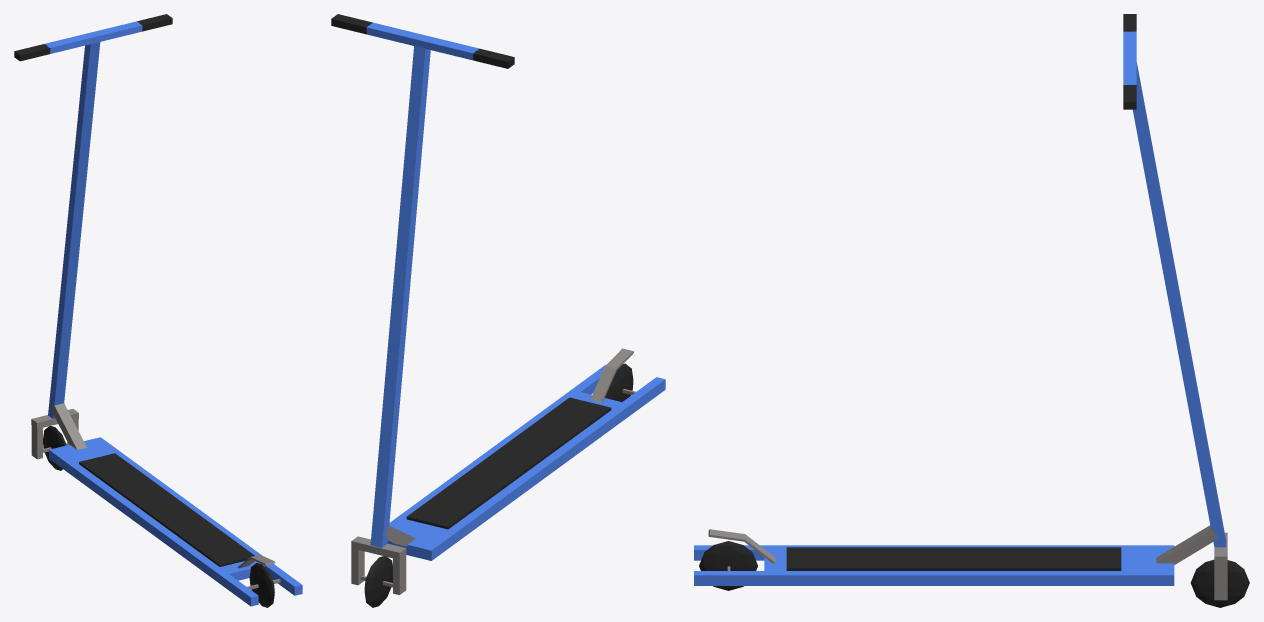
Rendered from scene_MYLdvAYLQI.glb.
The picture shows the model from 3 angles, left to right: view 1: azimuth 30°, elevation 25°; view 2: azimuth 150°, elevation 25°; view 3: azimuth 270°, elevation 25°; orthographic projection. The views are drawn at different scales.
Parts seen in each view (by area): view 1: Cube, Cube.001, Cube.010_Cube.011, Cube.007, Icosphere.001_Icosphere.002, Cube.002, Icosphere, Cube.009; view 2: Cube.001, Cube, Cube.010_Cube.011, Cube.007, Icosphere, Cube.012_Cube.015, Icosphere.001_Icosphere.002, Cube.003, Cube.009, Cube.005, Cube.008, Cube.004; view 3: Cube, Cube.010_Cube.011, Cube.001, Icosphere, Icosphere.001_Icosphere.002, Cube.002, Cube.007.
Part boxes in pixels (<box>): Cube: <box>49,437,302,606</box>; Cube.001: <box>48,42,100,418</box>; Cube.010_Cube.011: <box>79,453,254,566</box>; Cube.007: <box>45,21,142,53</box>; Icosphere.001_Icosphere.002: <box>249,563,274,607</box>; Cube.002: <box>51,403,86,449</box>; Icosphere: <box>43,426,66,470</box>; Cube.009: <box>14,44,50,61</box>; Cube.001: <box>370,45,430,547</box>; Cube: <box>387,365,665,560</box>; Cube.010_Cube.011: <box>406,397,611,529</box>; Cube.007: <box>366,22,478,60</box>; Icosphere: <box>364,556,392,607</box>; Cube.012_Cube.015: <box>590,348,633,402</box>; Icosphere.001_Icosphere.002: <box>605,363,633,401</box>; Cube.003: <box>351,536,406,559</box>; Cube.009: <box>473,48,514,68</box>; Cube.005: <box>393,551,406,594</box>; Cube.008: <box>331,14,372,34</box>; Cube.004: <box>351,544,364,585</box>; Cube: <box>694,545,1174,585</box>; Cube.010_Cube.011: <box>786,547,1121,570</box>; Cube.001: <box>1133,62,1226,547</box>; Icosphere: <box>1190,559,1249,607</box>; Icosphere.001_Icosphere.002: <box>699,541,757,590</box>; Cube.002: <box>1156,525,1218,564</box>; Cube.007: <box>1123,31,1136,84</box>.
Bounding box in the file's own units: 1.97 × 5.7 × 5.22.
